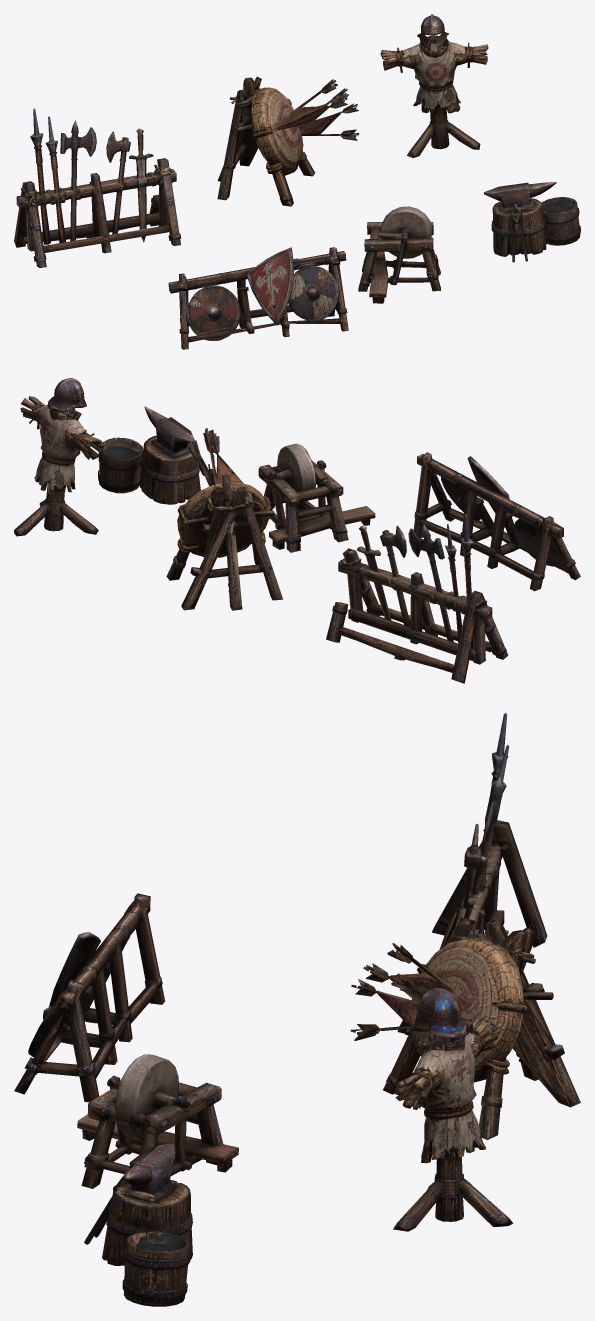
The model's file is asset_16_training_weapons_set.glb.
3 views of the same model, one above another, from view 1: azimuth 30°, elevation 25°; view 2: azimuth 150°, elevation 25°; view 3: azimuth 270°, elevation 25° (orthographic). The views are drawn at different scales.
Parts seen in each view (by area): view 1: fc87e5b4_ba58_4997_8f70_2c22184e11bb; view 2: fc87e5b4_ba58_4997_8f70_2c22184e11bb; view 3: fc87e5b4_ba58_4997_8f70_2c22184e11bb.
Boxes of the visible parts, x1=… form: fc87e5b4_ba58_4997_8f70_2c22184e11bb: x1=14, y1=14, x2=580, y2=349; fc87e5b4_ba58_4997_8f70_2c22184e11bb: x1=14, y1=378, x2=580, y2=683; fc87e5b4_ba58_4997_8f70_2c22184e11bb: x1=14, y1=712, x2=580, y2=1306.
Size of the model in its own units: 0.9995 by 0.3608 by 0.6606.
1 material, 1 textured.
